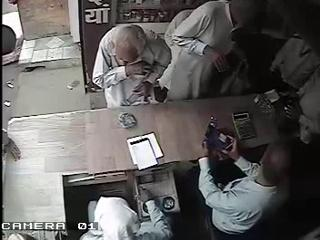Normal: (197, 114, 296, 240), (162, 0, 264, 102), (92, 24, 172, 108)
